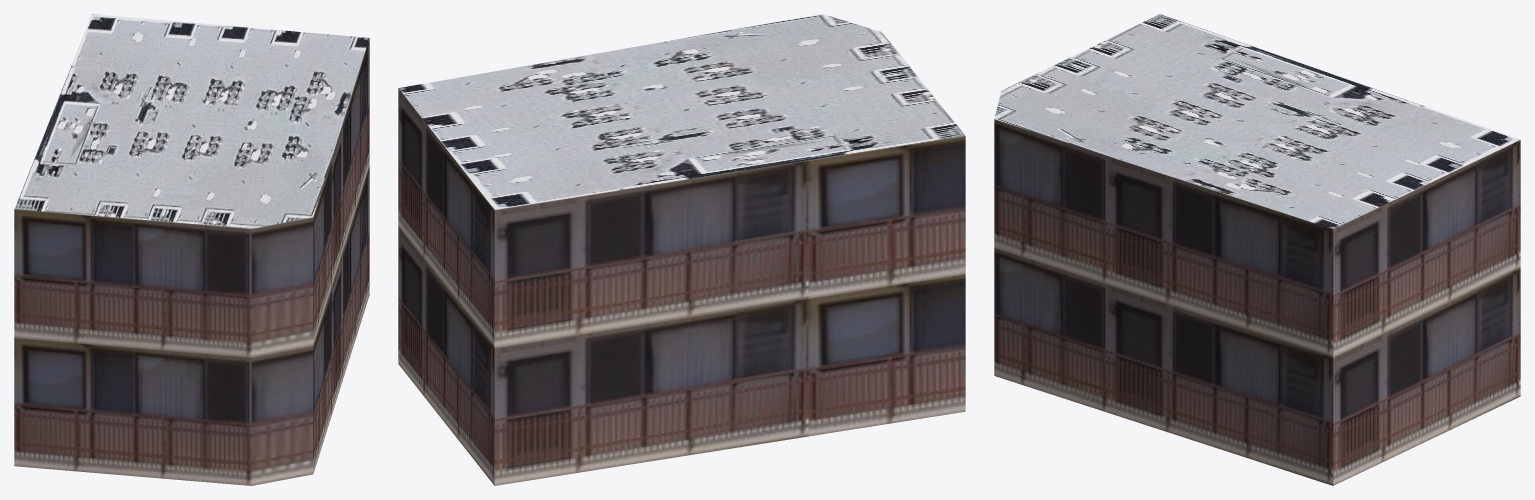
File: ResTex__938.fbx
3 renders of one model, left to right at view 1: azimuth 30°, elevation 25°; view 2: azimuth 150°, elevation 25°; view 3: azimuth 270°, elevation 25°, orthographic. The views are drawn at different scales.
Parts seen in each view (by area): view 1: CityEngineMaterial_6_m, CityEngineMaterial_4_m; view 2: CityEngineMaterial_6_m, CityEngineMaterial_4_m; view 3: CityEngineMaterial_6_m, CityEngineMaterial_4_m.
Boxes of the visible parts, <box> form: CityEngineMaterial_6_m: <box>14,38,369,485</box>; CityEngineMaterial_4_m: <box>14,14,369,228</box>; CityEngineMaterial_6_m: <box>398,88,965,485</box>; CityEngineMaterial_4_m: <box>398,14,965,209</box>; CityEngineMaterial_6_m: <box>994,119,1520,485</box>; CityEngineMaterial_4_m: <box>994,14,1520,228</box>.
Bounding box in the file's own units: 10.79 × 6 × 11.15.
Materials: 2 (2 with a texture image).
